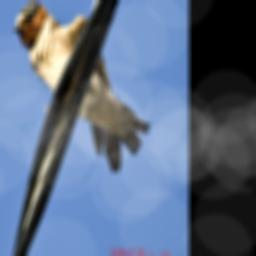Swallow: (12, 0, 152, 175)
